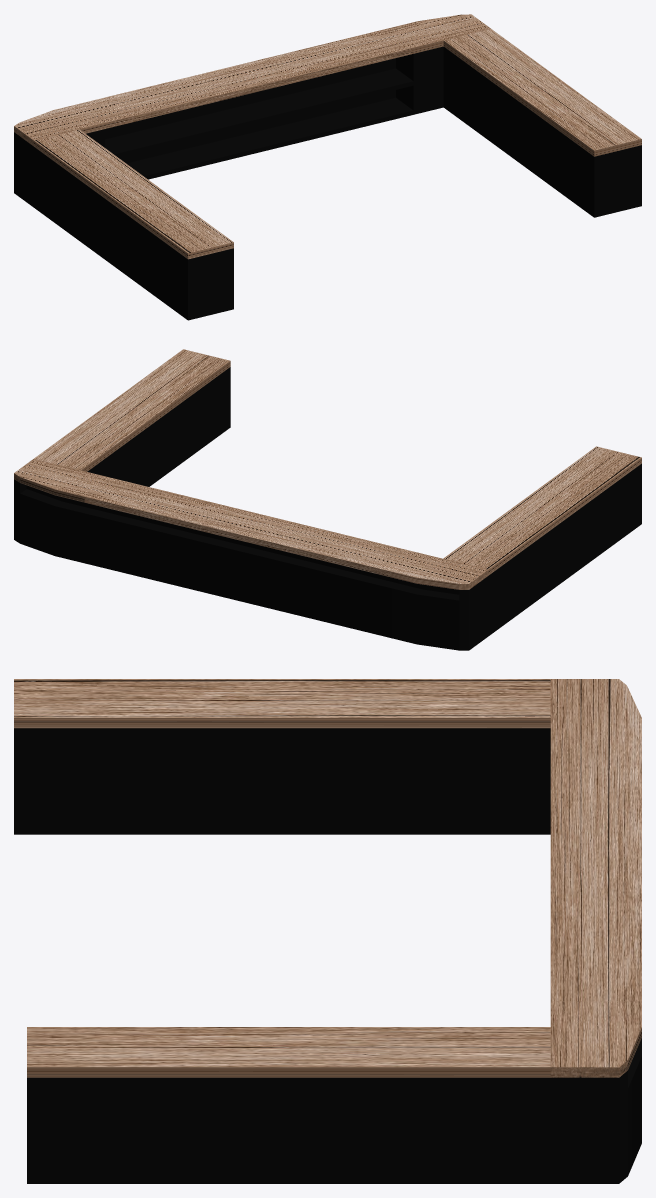
Rendered from bar.fbx.
The picture shows the model from 3 angles, top to bottom: view 1: azimuth 30°, elevation 25°; view 2: azimuth 150°, elevation 25°; view 3: azimuth 270°, elevation 25°; orthographic projection. The views are drawn at different scales.
Visible parts, largest first — view 1: pCube1; view 2: pCube1; view 3: pCube1.
Boxes of the visible parts, x1,y1,x2,y2 form: pCube1: [14, 14, 641, 320]; pCube1: [14, 349, 641, 650]; pCube1: [14, 679, 641, 1183].
Size of the model in its own units: 152 by 21.26 by 104.
2 materials, 1 textured.
